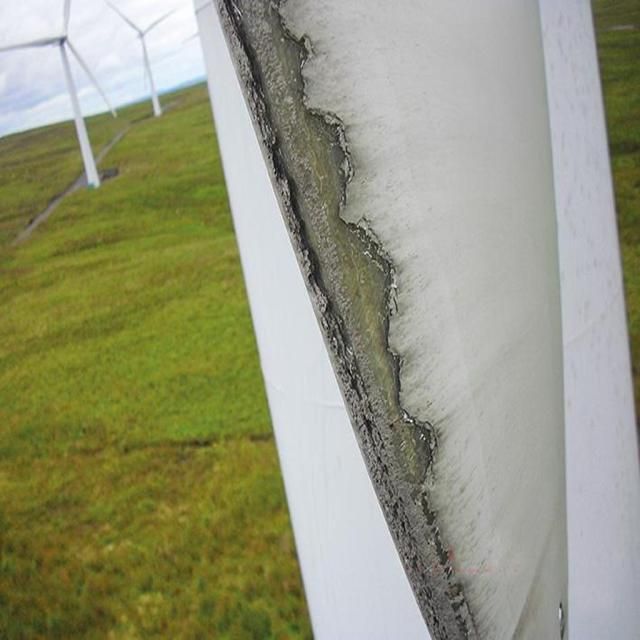corrosion: (350, 366, 466, 634)
surface_peeling: (220, 1, 391, 354)
